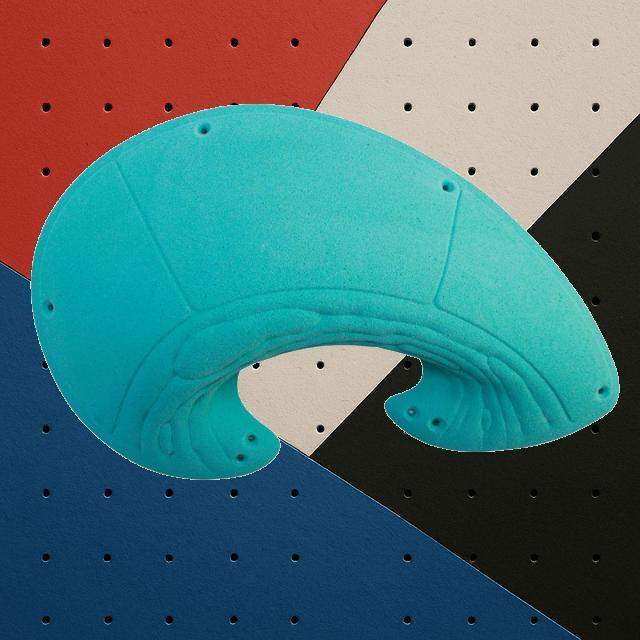Jug: (30, 102, 620, 480)
